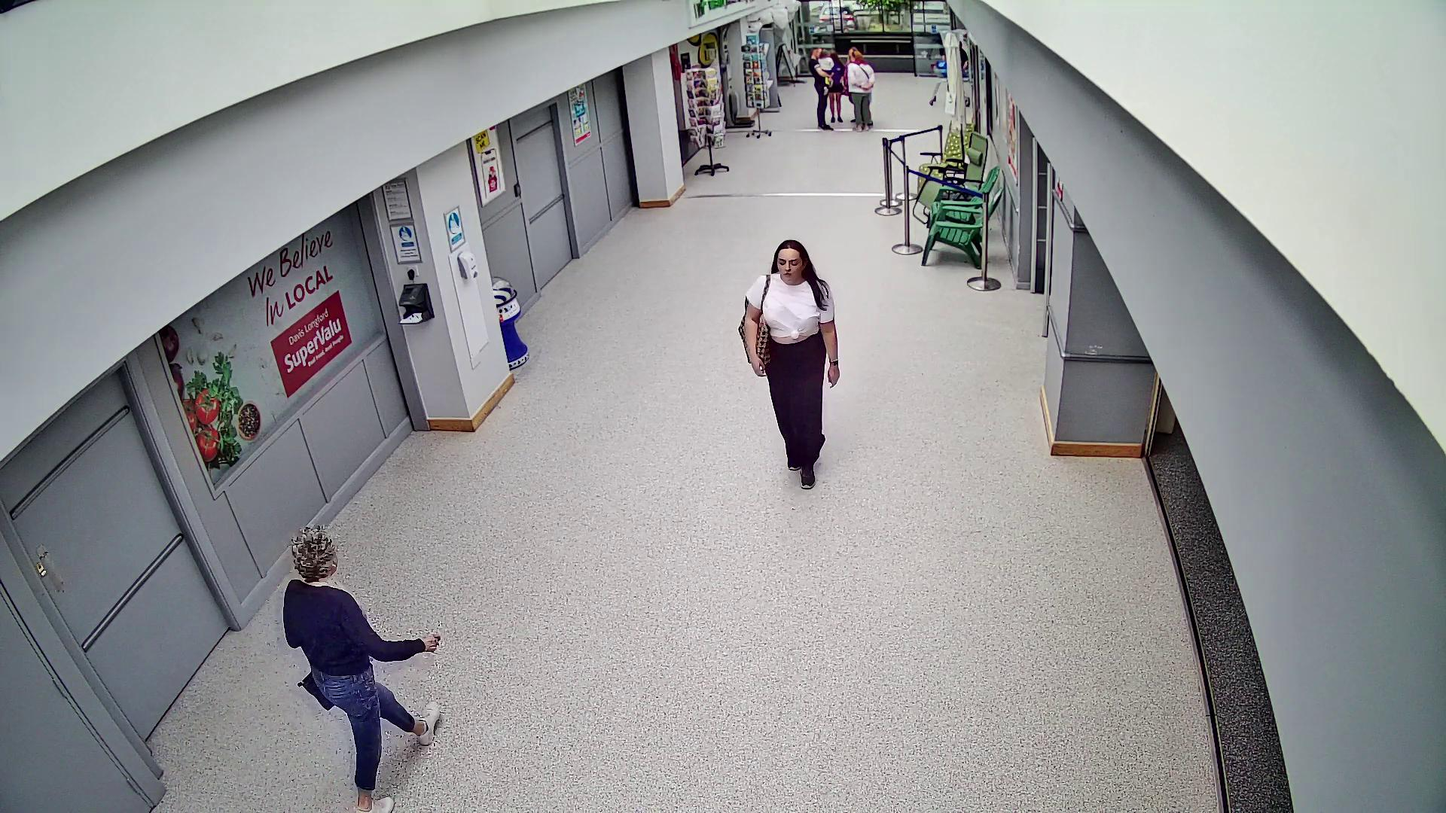backpack-or-handbag: (737, 294, 771, 372), (297, 662, 333, 710)
person: (284, 526, 442, 813), (744, 240, 840, 489)
person-with-backpack-handbag: (284, 524, 439, 813), (734, 242, 840, 487)
